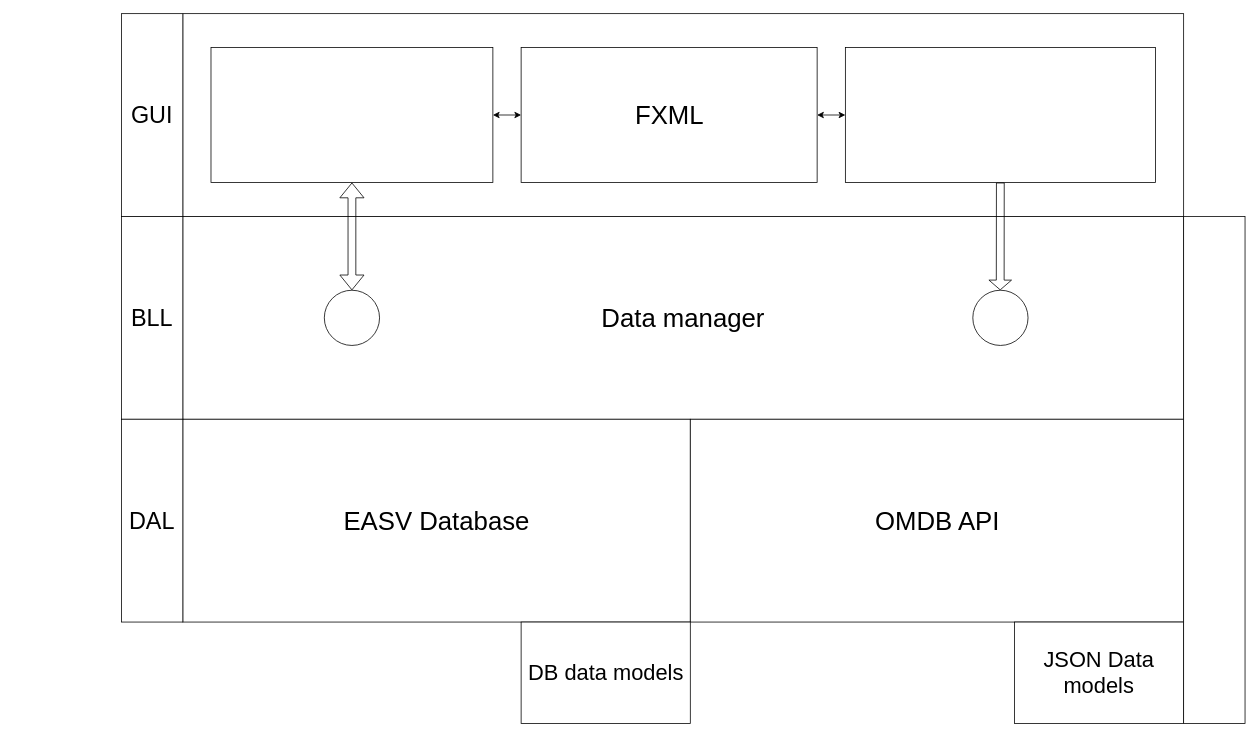
Image size: 1259x737. Some labels were removed from this diagram. The shapes that lost their labels are listed below. From the top down, each one's centre as x and y in pixels, then its label:
[351,115]: Bindable Data-models
[1000,115]: Controllers
[1214,469]: BE
